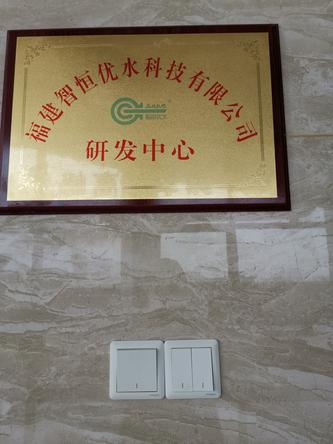switch: (115, 345, 159, 395), (189, 344, 215, 393), (169, 344, 194, 393)
